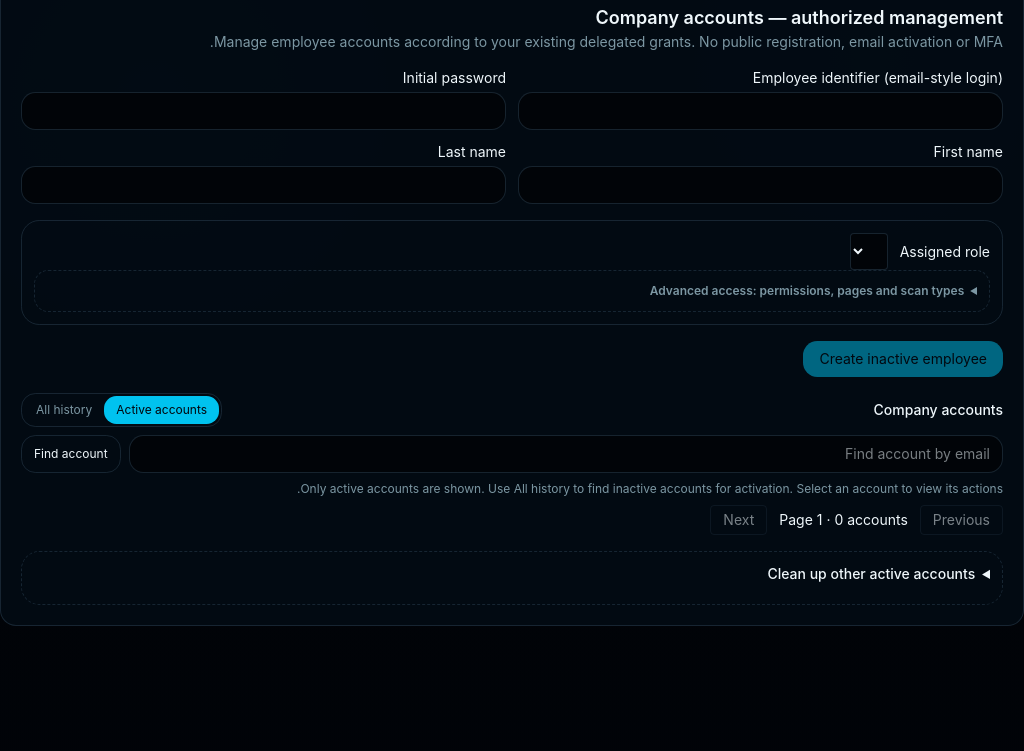
Scenario: owner-only company account UI › refuses account cleanup when retained account is not uniquely verified
Step 1. Click the heading "Clean up other active accounts" → coordinates (871, 574), box 767,565 -> 975,582
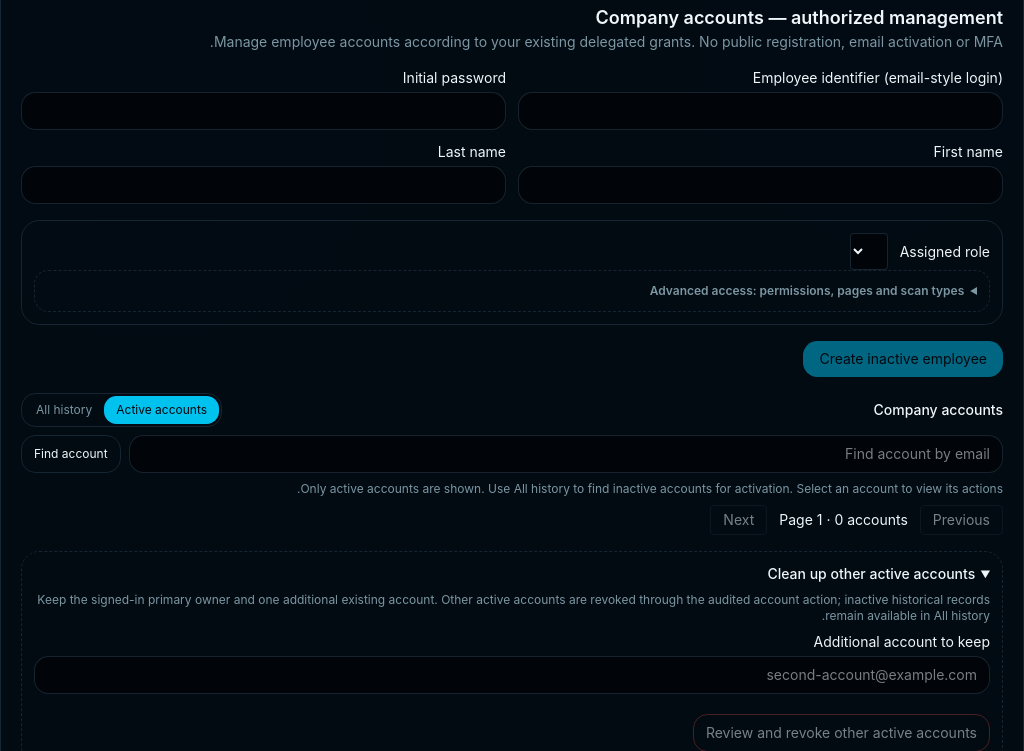
Step 2. Type "missing@company.invalid" into the field labelled "Additional account to keep" → coordinates (512, 675), box 34,656 -> 990,694
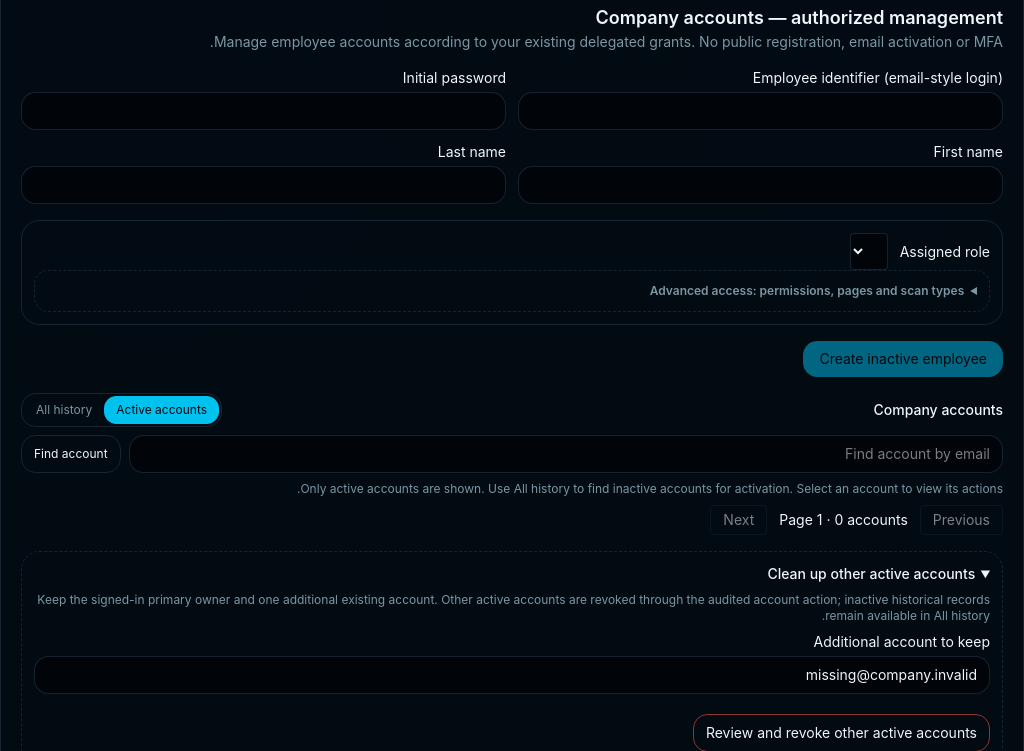
Step 3. Click the button "Review and revoke other active accounts" → coordinates (841, 733), box 693,714 -> 990,750
(page scrolled)
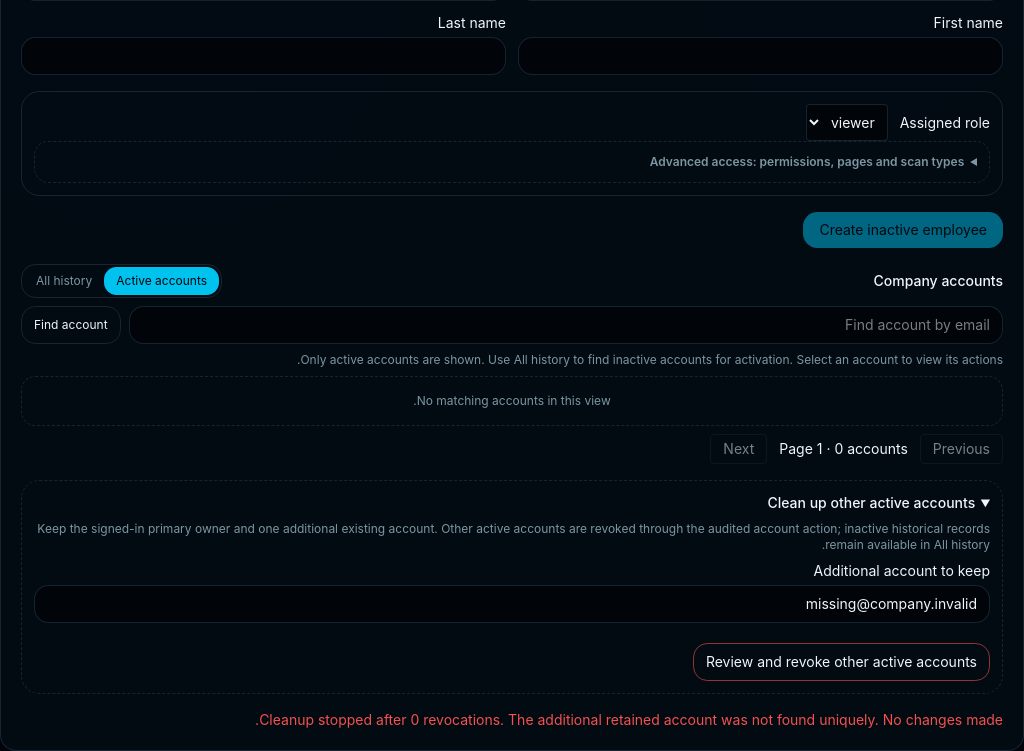
Now the message shows "No changes made", box 255,711 -> 1003,728
